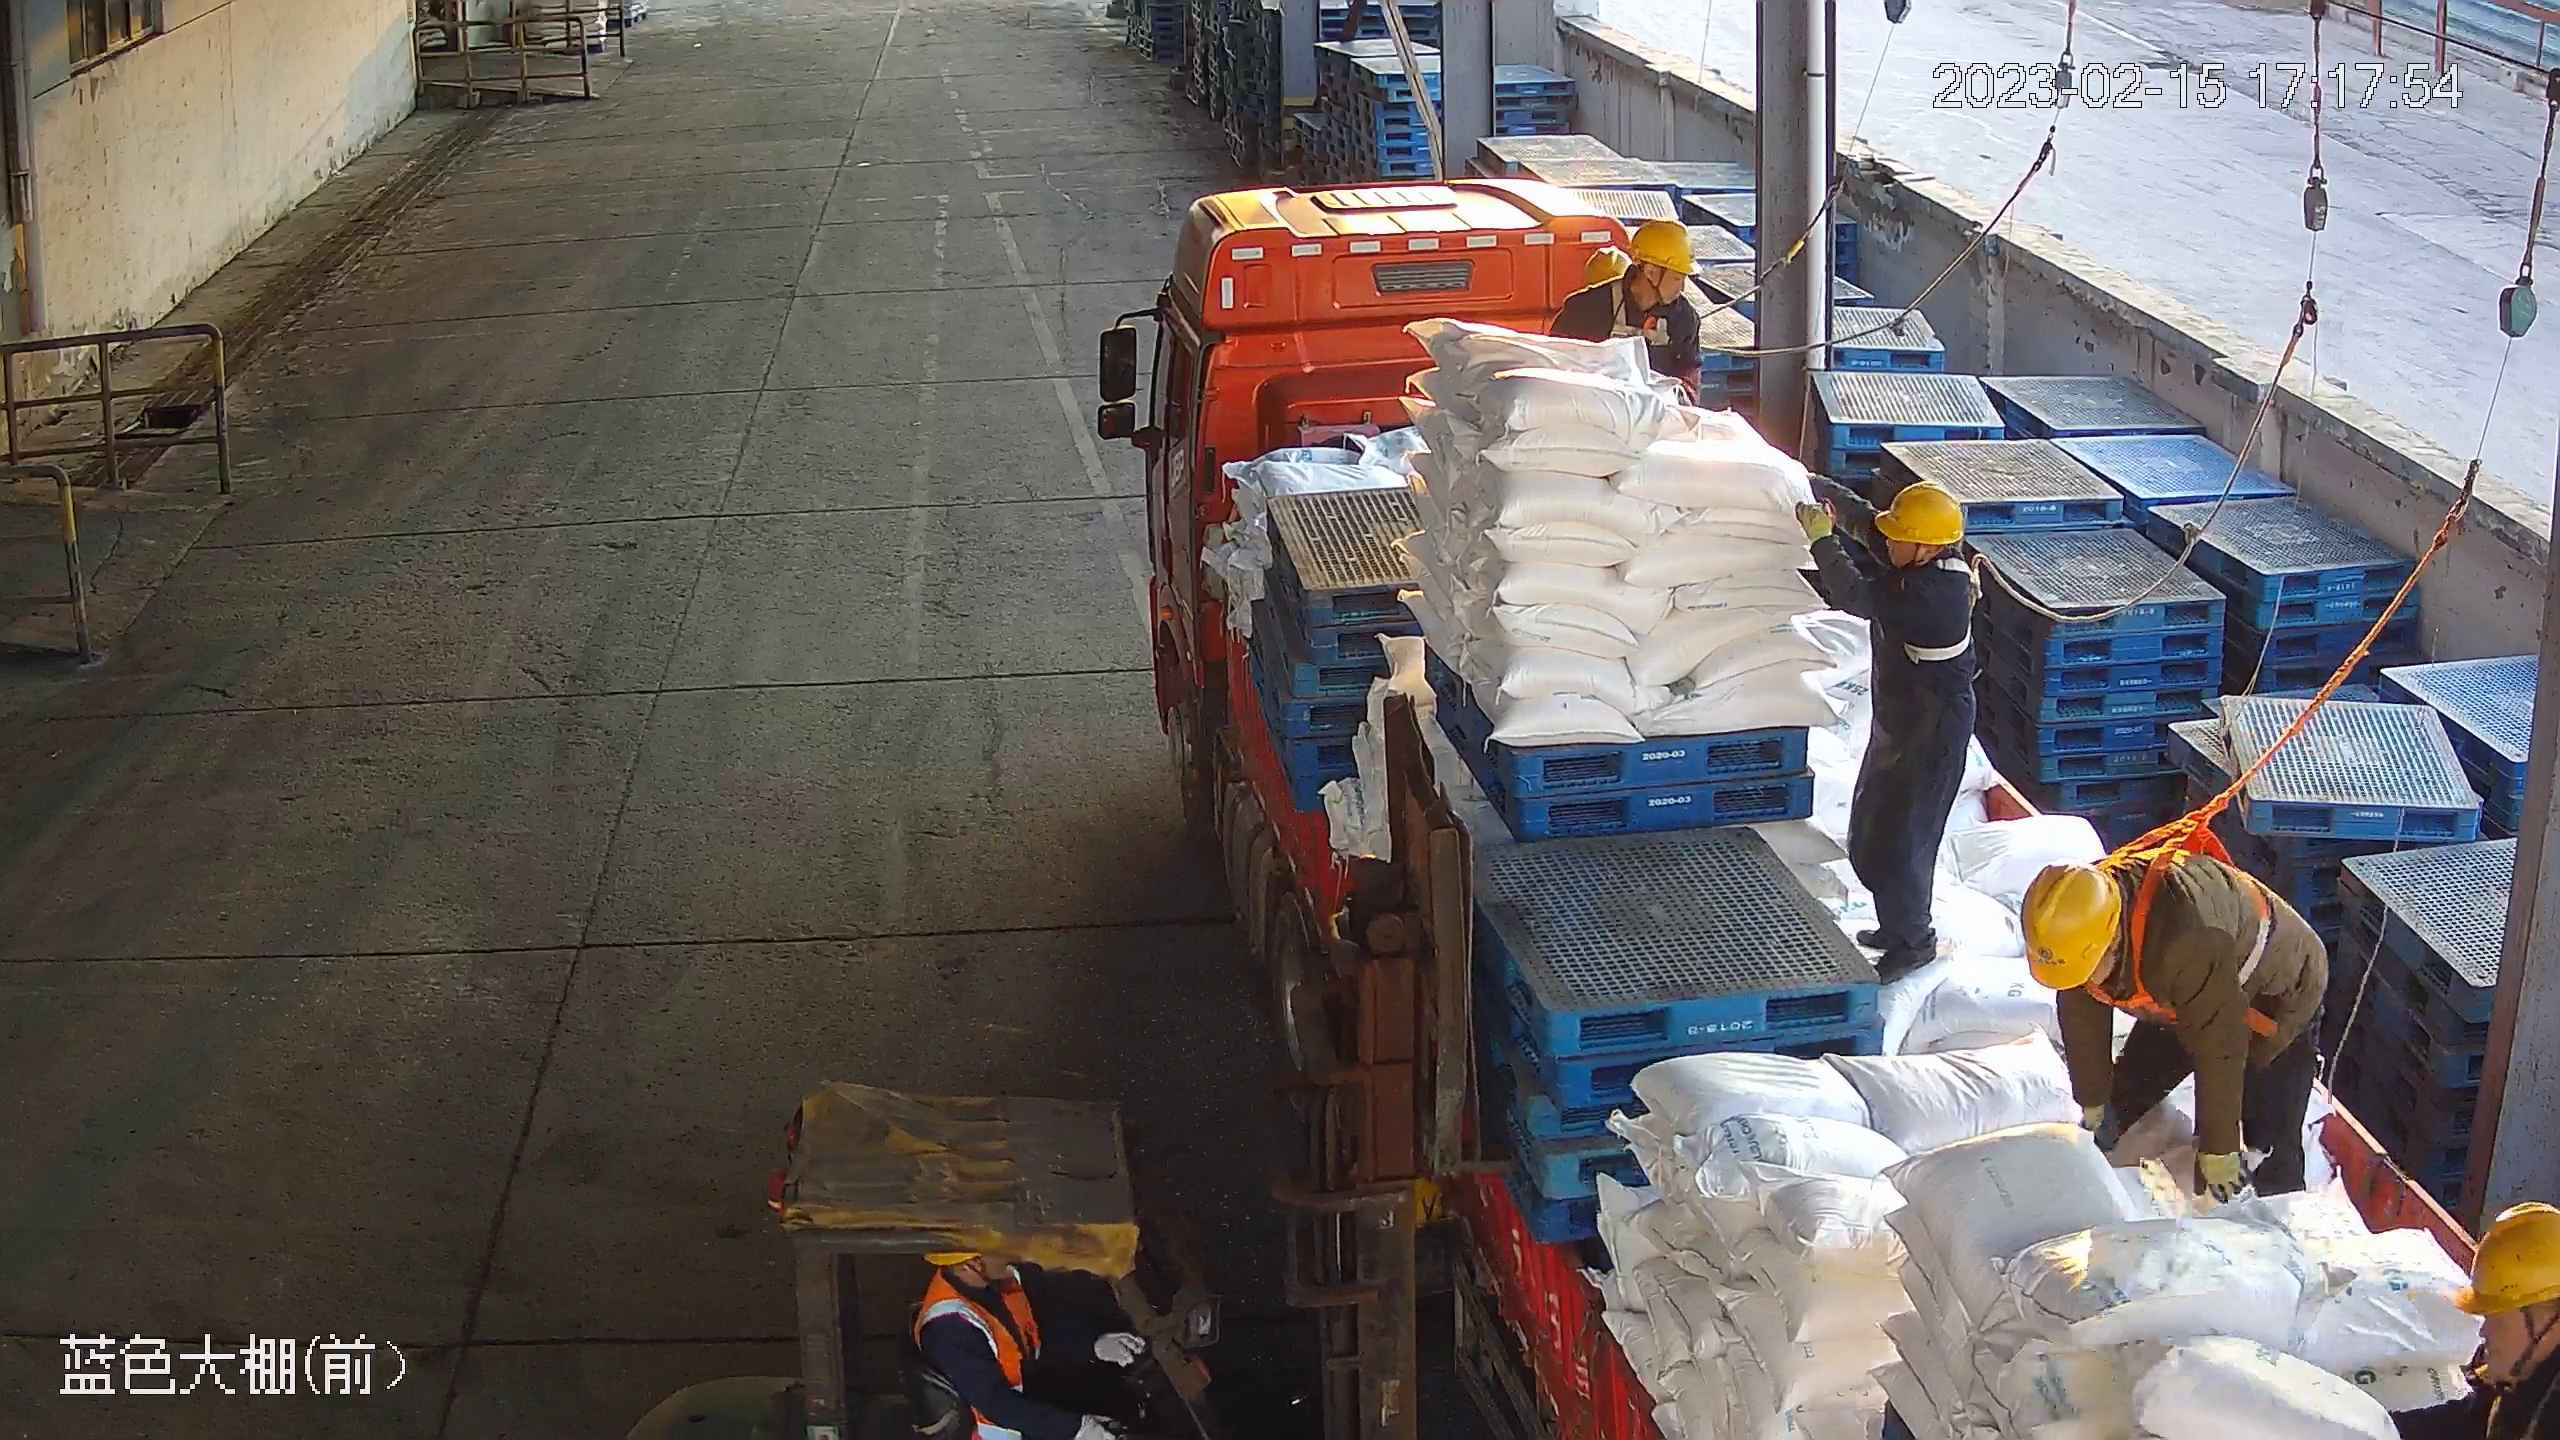belt: (2128, 807, 2285, 1046), (1914, 546, 1990, 681), (1604, 281, 1677, 356)
head: (885, 1237, 1134, 1435), (2378, 1199, 2560, 1440), (2022, 844, 2211, 1037), (1797, 482, 1974, 641), (1549, 220, 1702, 380)
helmet: (2452, 1201, 2560, 1316), (2022, 864, 2120, 987), (1872, 483, 1966, 545), (1628, 218, 1693, 277), (1586, 246, 1631, 287)
people: (2020, 842, 2327, 1201), (1795, 480, 1980, 997)
truck: (1095, 170, 2560, 1440)
